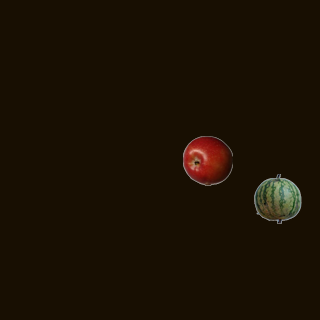Apple Braeburn: (182, 135, 232, 185)
Watermelon: (252, 173, 302, 223)
